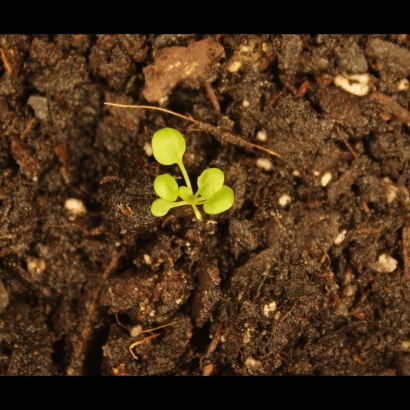leaf: (147, 125, 192, 166), (203, 183, 237, 217), (196, 167, 225, 200), (149, 174, 181, 203), (147, 198, 175, 221), (177, 185, 200, 208)
